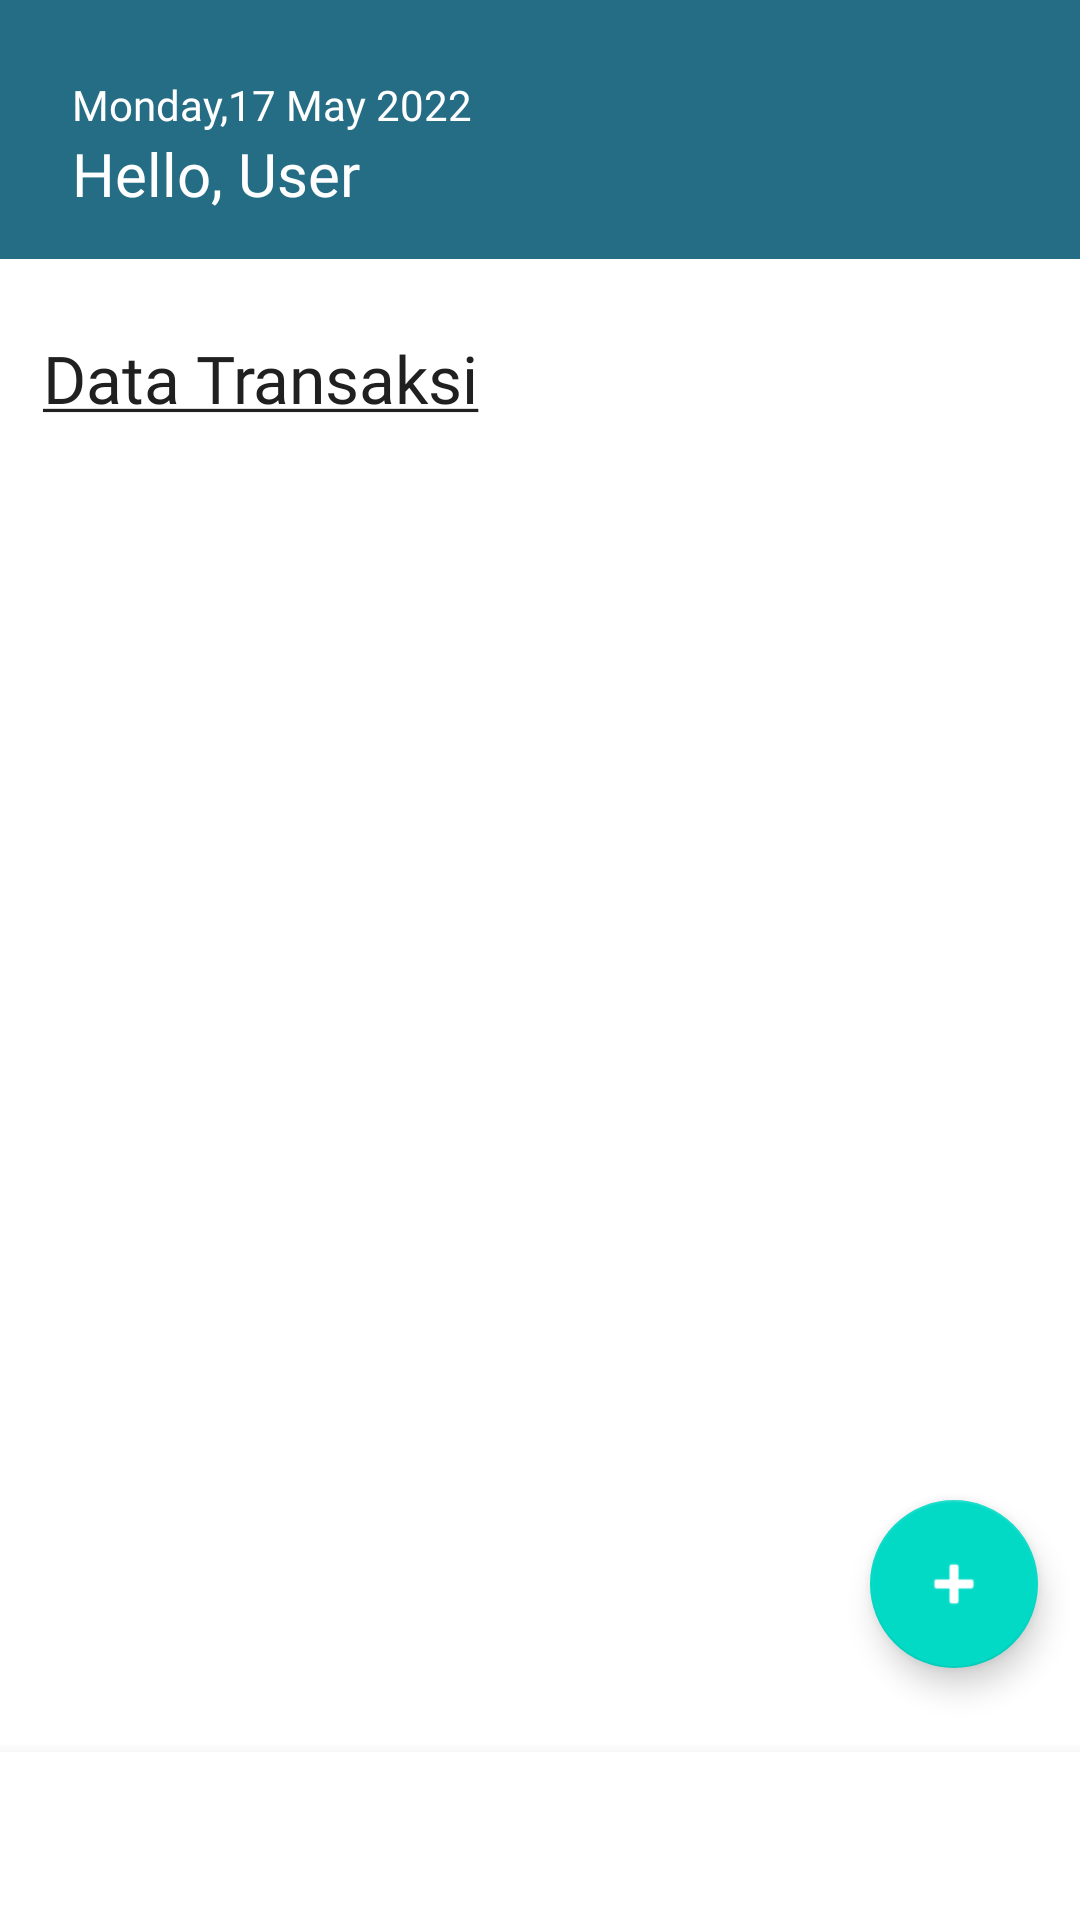

Icon bounding boxes for this 1080w x 1920h phone screenshot, format (x1, y1, x2, y2):
Tambah Transaksi Baru: (870, 1500, 1038, 1668)
